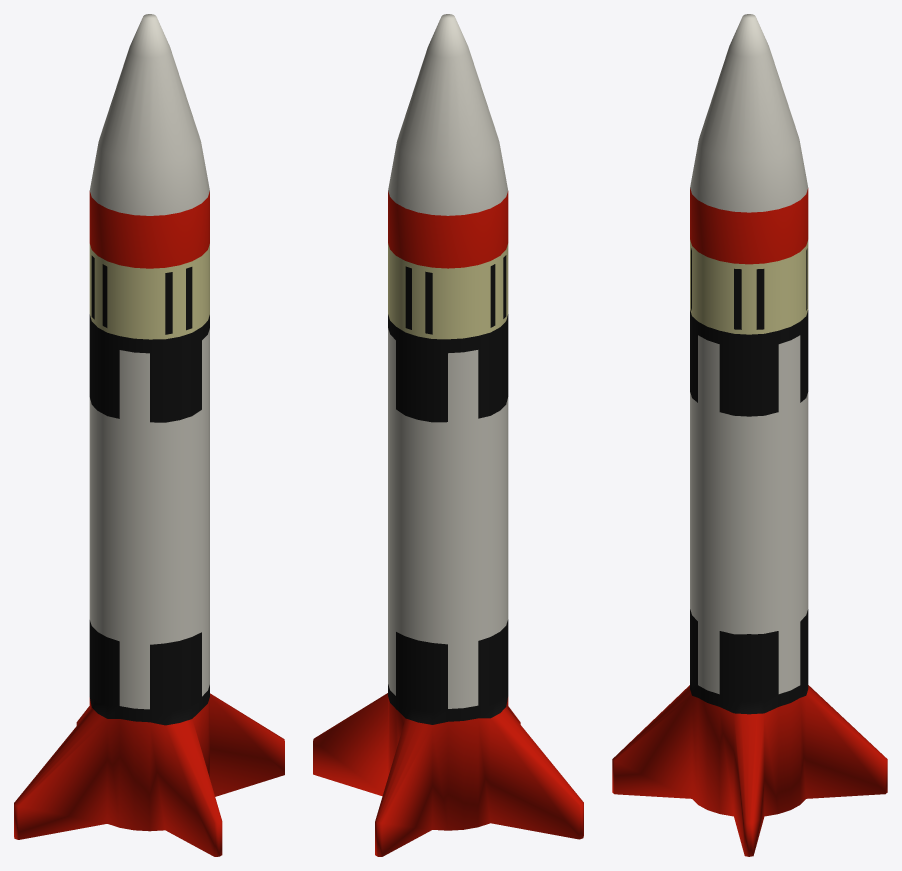
The model's file is missile.fbx.
3 views of the same model, side by side, from view 1: azimuth 30°, elevation 25°; view 2: azimuth 150°, elevation 25°; view 3: azimuth 270°, elevation 25° (orthographic).
Parts seen in each view (by area): view 1: Missile; view 2: Missile; view 3: Missile.
Boxes of the visible parts, x1=… form: Missile: x1=14, y1=14, x2=284, y2=856; Missile: x1=313, y1=14, x2=583, y2=856; Missile: x1=612, y1=14, x2=887, y2=856.
Bounding box in the file's own units: 5.18 × 14.48 × 4.66.
